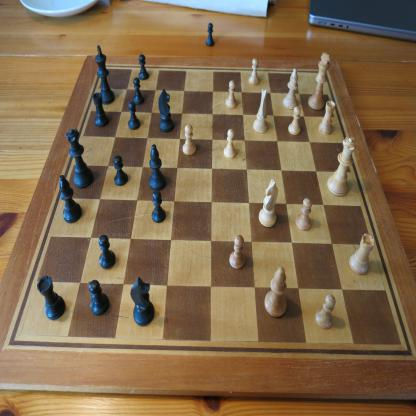black-bishop: (58, 174, 82, 224), (148, 144, 167, 192)
black-king: (94, 44, 115, 105)
black-knight: (130, 275, 155, 327), (156, 88, 174, 134)
black-pawn: (89, 279, 109, 317), (98, 234, 116, 270), (151, 189, 167, 224), (113, 154, 128, 188), (127, 101, 141, 131), (132, 76, 145, 106), (138, 54, 150, 80), (205, 22, 215, 47)
black-queen: (65, 127, 94, 190)
black-rook: (36, 274, 66, 321), (92, 92, 109, 128)
white-bishop: (264, 266, 288, 319), (282, 67, 298, 110)
white-king: (307, 52, 331, 112)
white-knight: (258, 178, 279, 229), (253, 88, 268, 134)
white-pawn: (314, 293, 336, 331), (228, 233, 246, 270), (295, 197, 312, 232), (182, 123, 196, 157), (223, 128, 237, 160), (288, 106, 302, 136), (225, 80, 238, 109), (248, 57, 260, 86)
white-queen: (326, 135, 358, 198)
white-rook: (348, 232, 376, 276), (318, 100, 336, 136)
